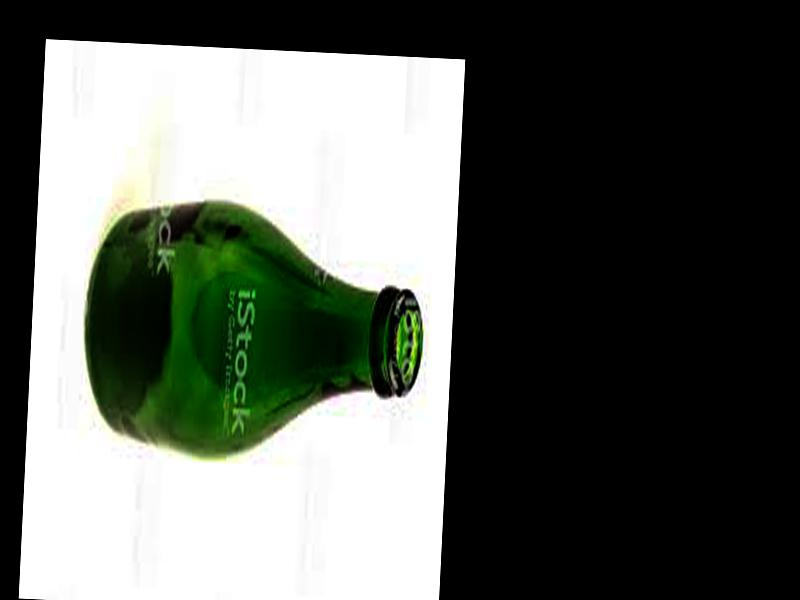Beer: (78, 194, 430, 469)
